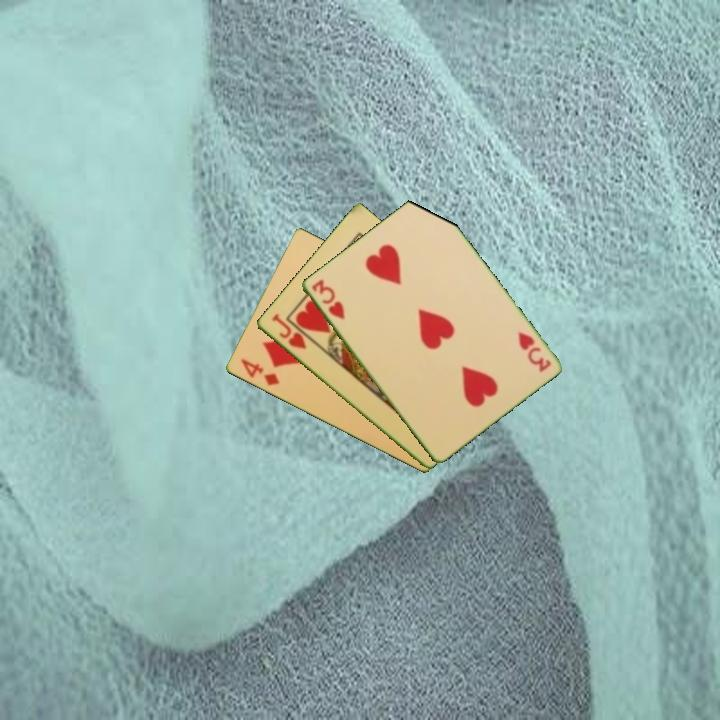3h: (308, 275, 348, 323), (514, 328, 554, 375)
4d: (237, 355, 282, 389)
Jh: (268, 310, 309, 352)
